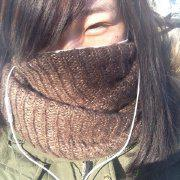OK: (11, 4, 138, 129)
